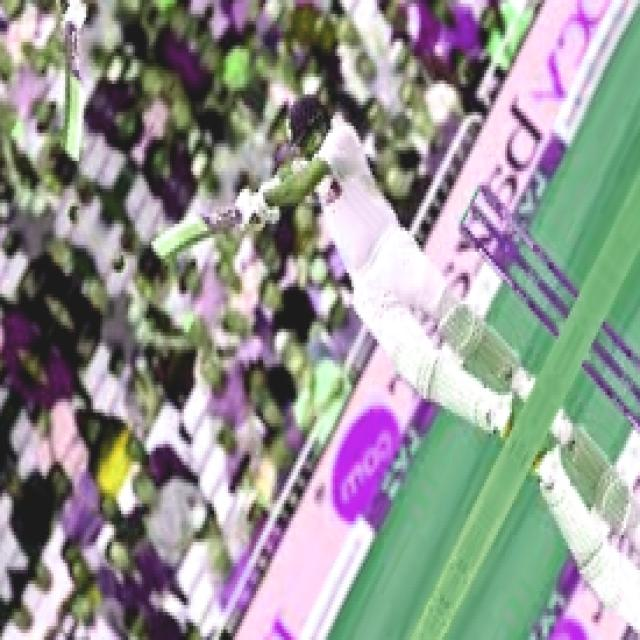toe: (148, 237, 168, 269)
